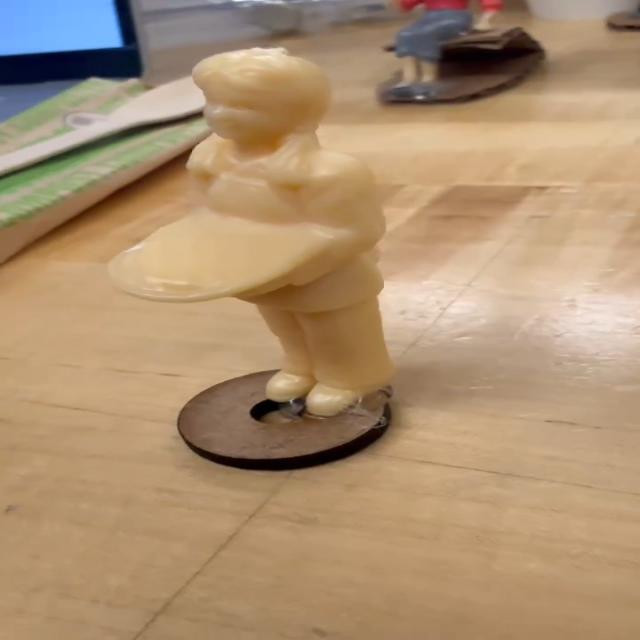Unauthorized: (110, 48, 406, 413)
